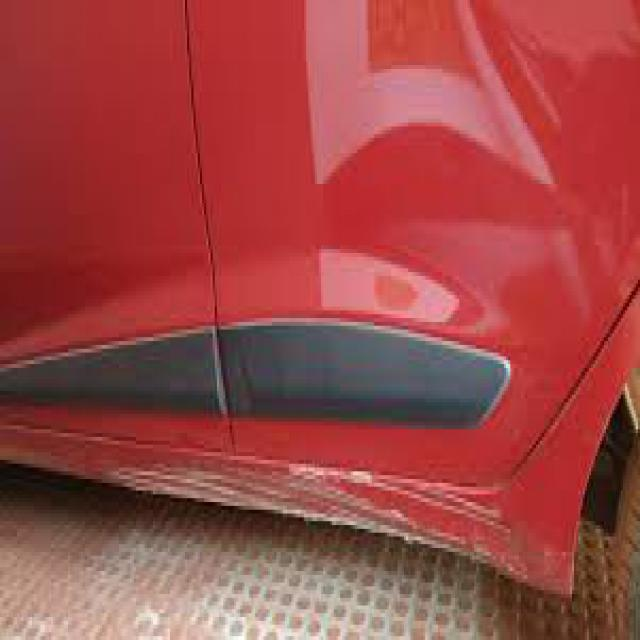RunningBoard-Dent: (225, 418, 540, 575), (0, 418, 246, 518)
